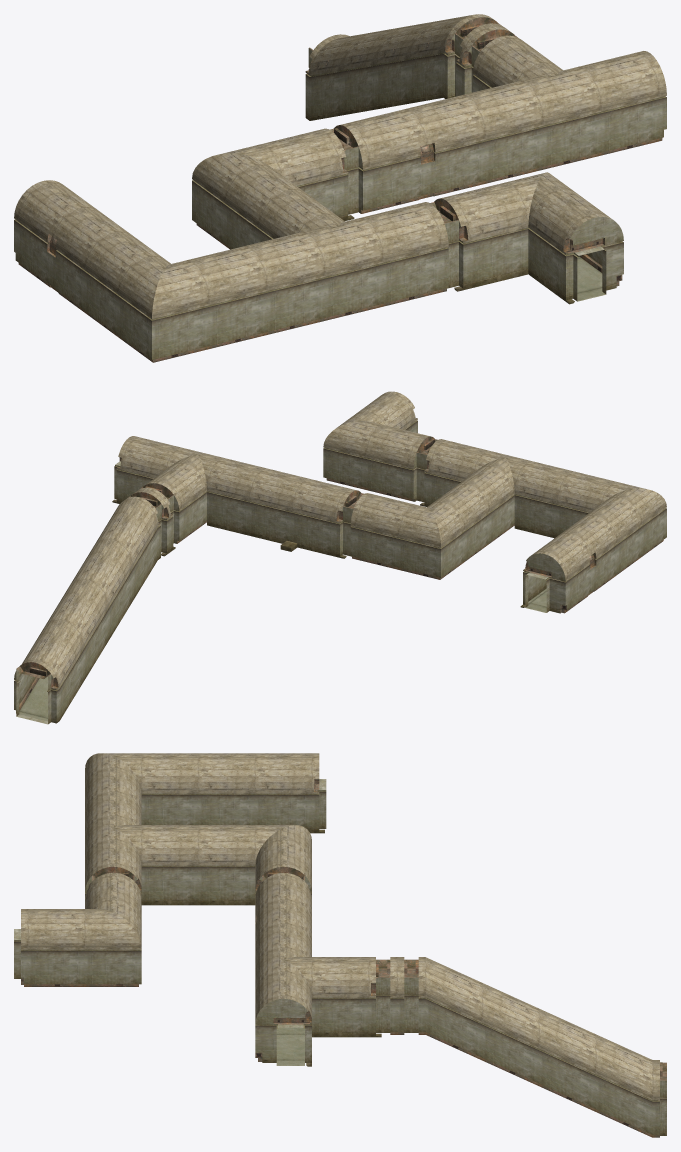
File: poi_all_bunker_allum_mine_r31_hall31_mesh_r31.fbx
The picture shows the model from 3 angles, top to bottom: view 1: azimuth 30°, elevation 25°; view 2: azimuth 150°, elevation 25°; view 3: azimuth 270°, elevation 25°; orthographic projection. The views are drawn at different scales.
Visible parts, largest first — view 1: mesh_node; view 2: mesh_node; view 3: mesh_node.
Part boxes in pixels (box(x1,y1,x2,y2)): mesh_node: box(14, 14, 666, 362); mesh_node: box(14, 391, 666, 724); mesh_node: box(14, 753, 666, 1137).
Bounding box in the file's own units: 43 × 13 × 46.
